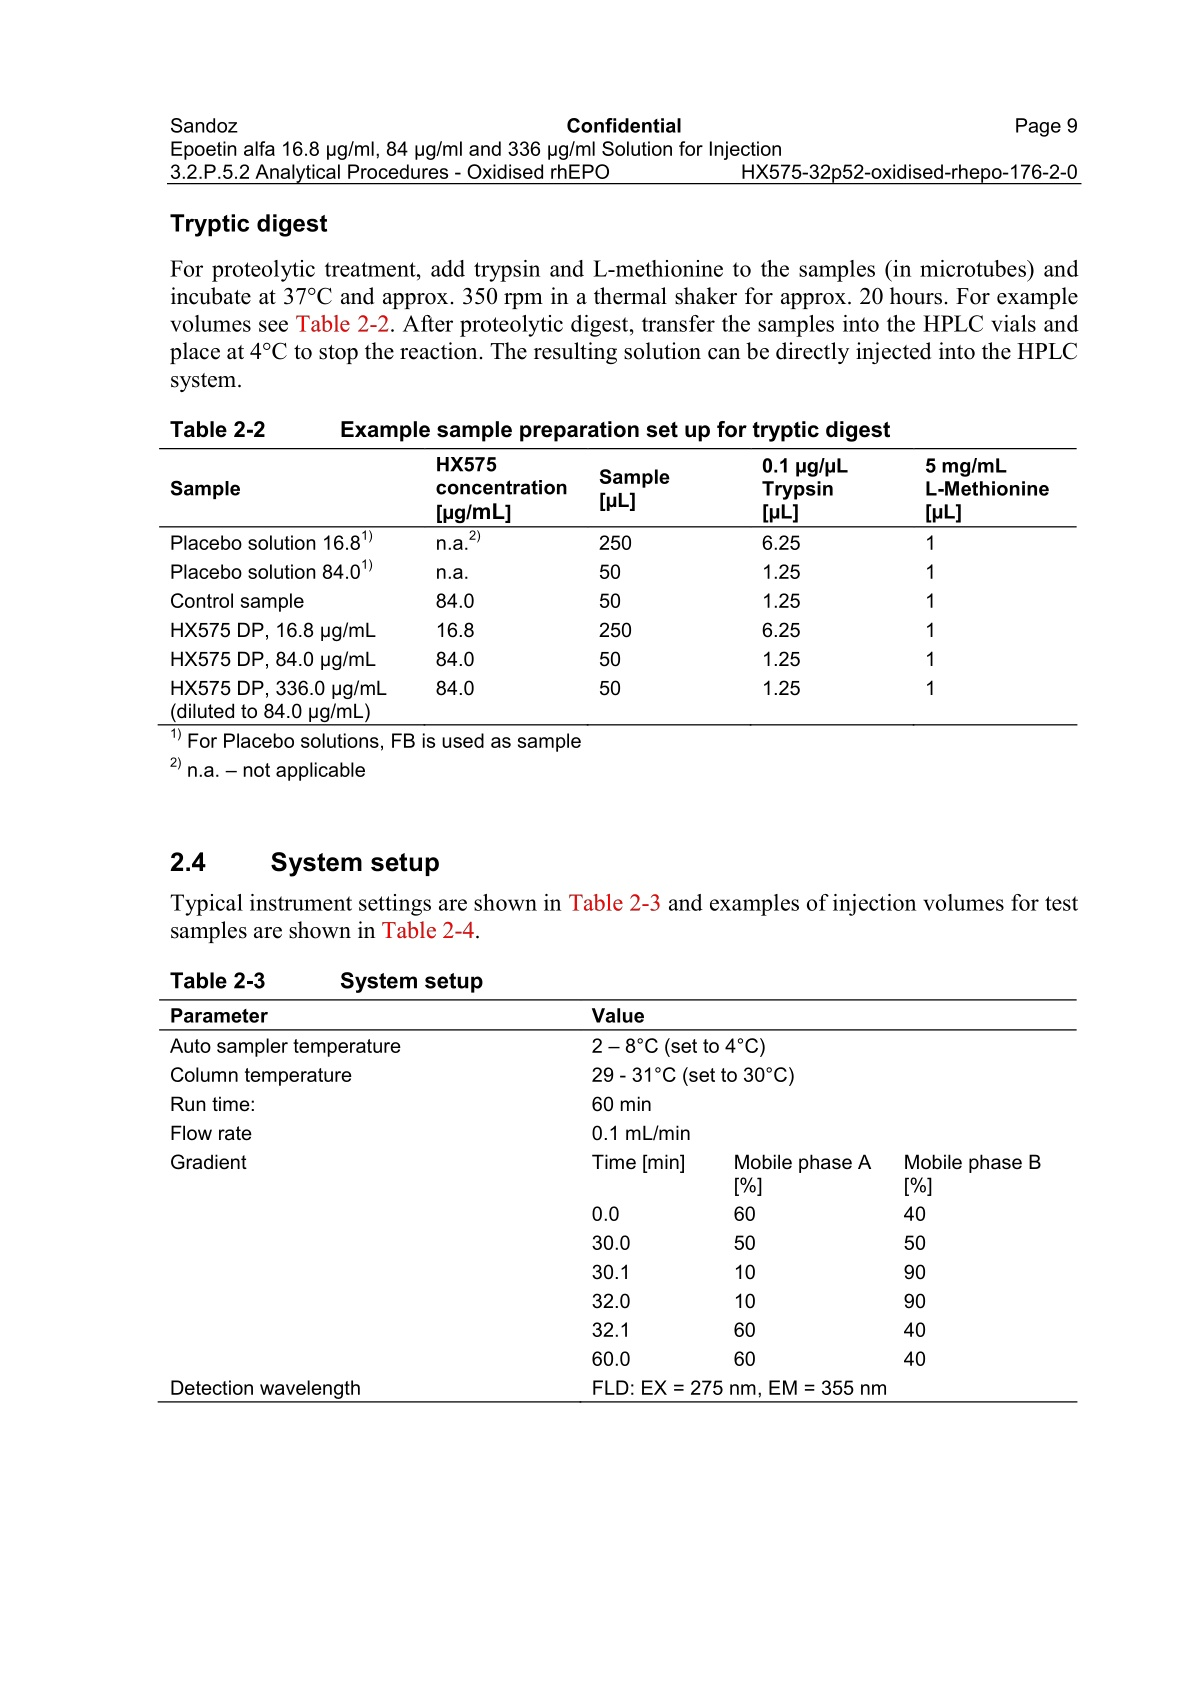partial_lined: (159, 446, 1076, 728)
partial_lined_merged_cells: (162, 997, 1078, 1404)
